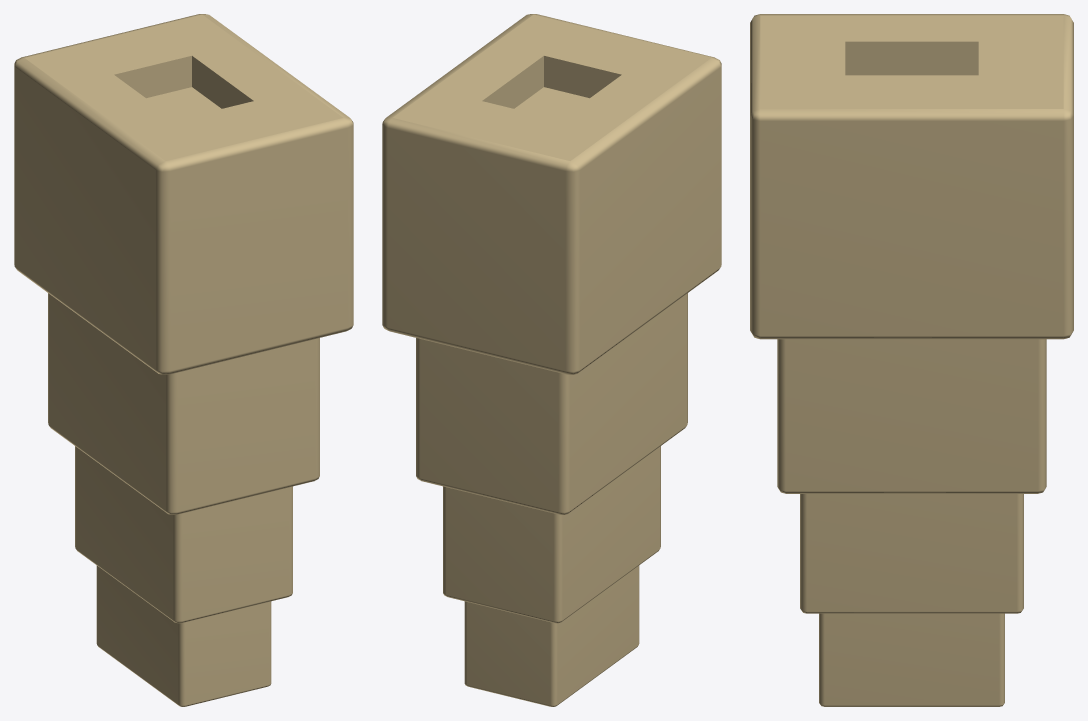
Rendered from torch_1.fbx.
The picture shows the model from 3 angles, left to right: view 1: azimuth 30°, elevation 25°; view 2: azimuth 150°, elevation 25°; view 3: azimuth 270°, elevation 25°; orthographic projection. The views are drawn at different scales.
Parts seen in each view (by area): view 1: polySurface32; view 2: polySurface32; view 3: polySurface32.
Part boxes in pixels (x1,y1,x2,y2): polySurface32: (14, 14, 353, 706); polySurface32: (382, 14, 721, 706); polySurface32: (750, 14, 1073, 706).
Bounding box in the file's own units: 48.12 × 135 × 63.52.
